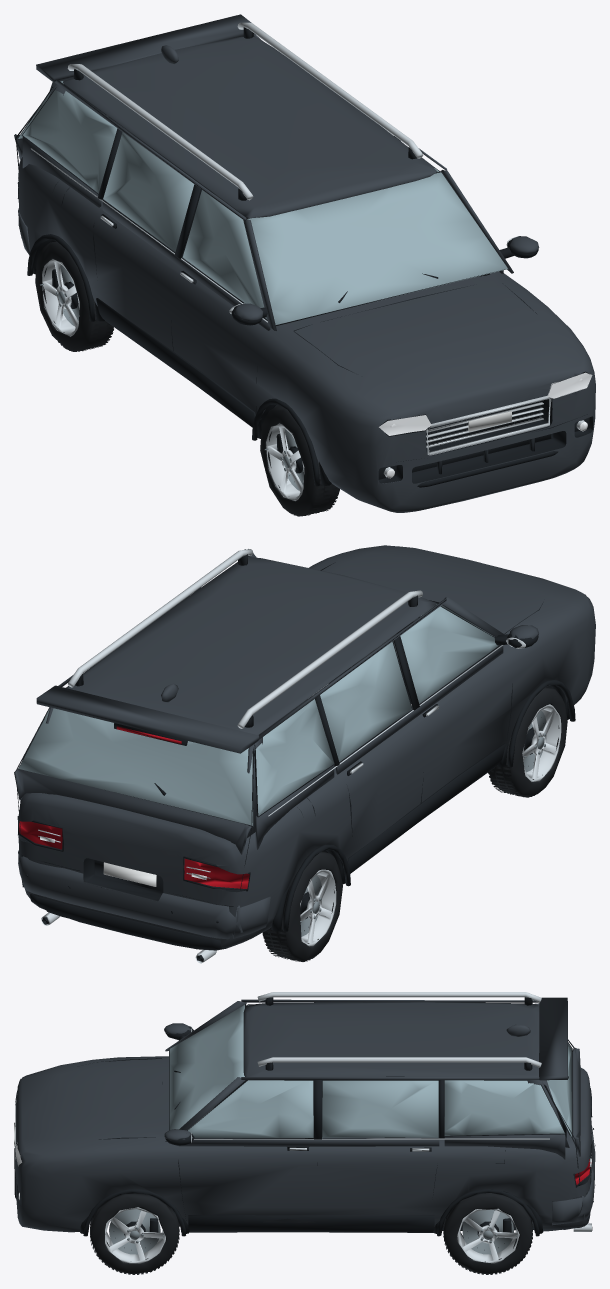
The model's file is suv-lod1.glb.
3 renders of one model, top to bottom at view 1: azimuth 30°, elevation 25°; view 2: azimuth 150°, elevation 25°; view 3: azimuth 270°, elevation 25°, orthographic. The views are drawn at different scales.
Visible parts, largest first — view 1: body_paint, body_glass.001, body_black.001, body_chrome, wheelpart_rubber.001 (×2), wheelpart_chrome (×2), body_clearlens; view 2: body_paint, body_glass.001, body_black.001, wheelpart_rubber.001 (×2), body_chrome, wheelpart_chrome (×2), body_redlens, body_white; view 3: body_paint, body_glass.001, body_black.001, wheelpart_rubber.001 (×2), body_chrome, wheelpart_chrome (×2), wheelpart_steel.001 (×2).
Boxes of the visible parts, left/top/right/bottom form: body_paint: left=14, top=14, right=595, bottom=512; body_glass.001: left=18, top=81, right=507, bottom=324; body_black.001: left=15, top=27, right=593, bottom=487; body_chrome: left=31, top=22, right=584, bottom=477; wheelpart_rubber.001 (×2): left=35, top=241, right=339, bottom=516; wheelpart_chrome (×2): left=42, top=259, right=304, bottom=500; body_clearlens: left=379, top=372, right=592, bottom=478; body_paint: left=14, top=545, right=595, bottom=950; body_glass.001: left=18, top=603, right=498, bottom=826; body_black.001: left=16, top=554, right=585, bottom=961; wheelpart_rubber.001 (×2): left=262, top=687, right=567, bottom=961; body_chrome: left=38, top=549, right=525, bottom=963; wheelpart_chrome (×2): left=300, top=704, right=561, bottom=946; body_redlens: left=19, top=726, right=249, bottom=888; body_white: left=103, top=862, right=156, bottom=886; body_paint: left=15, top=997, right=595, bottom=1232; body_glass.001: left=169, top=1005, right=571, bottom=1138; body_black.001: left=14, top=997, right=595, bottom=1236; wheelpart_rubber.001 (×2): left=90, top=1193, right=532, bottom=1274; body_chrome: left=15, top=992, right=591, bottom=1231; wheelpart_chrome (×2): left=105, top=1207, right=519, bottom=1263; wheelpart_steel.001 (×2): left=109, top=1209, right=513, bottom=1254.
Size of the model in its own units: 2.25 by 1.83 by 4.78.
